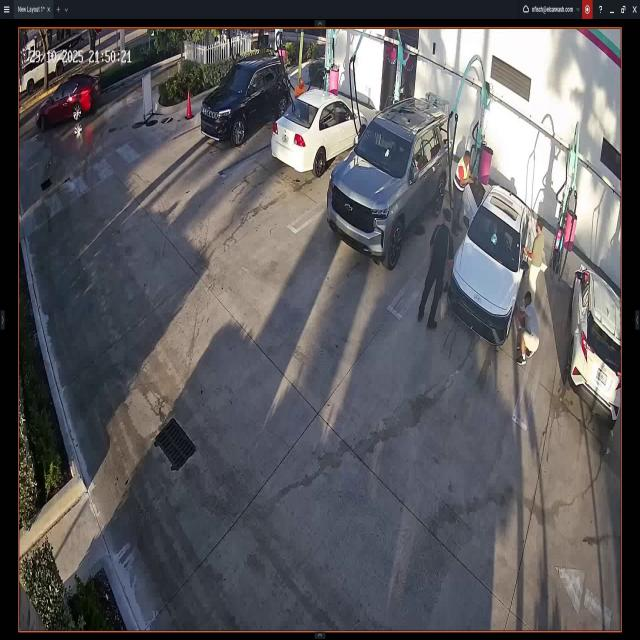Car: (329, 101, 450, 268), (449, 182, 530, 340), (270, 88, 368, 176), (198, 52, 291, 144), (568, 264, 622, 421), (36, 74, 101, 128)
